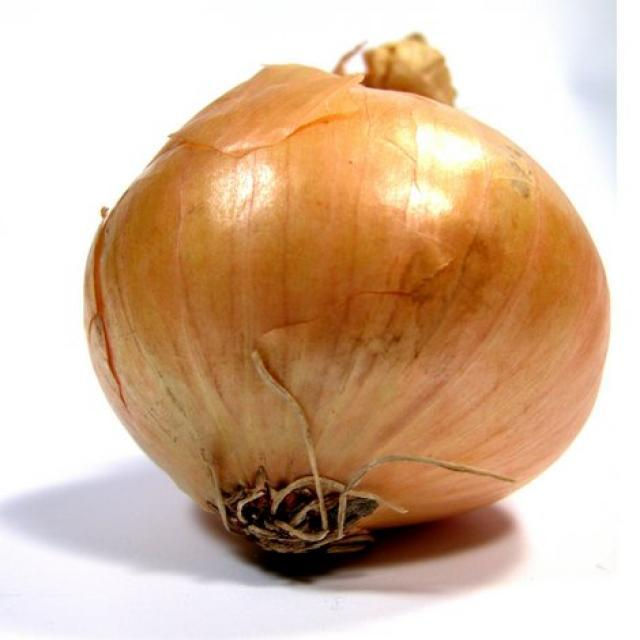onion: (80, 32, 614, 562)
